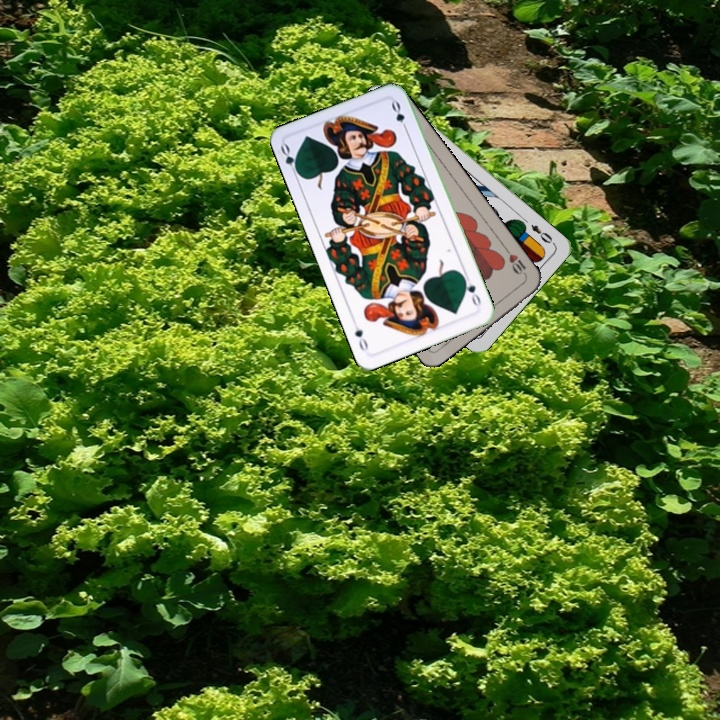EO: (527, 220, 557, 247)
GO: (276, 140, 303, 180), (459, 271, 483, 311)
H10: (501, 244, 530, 280)
